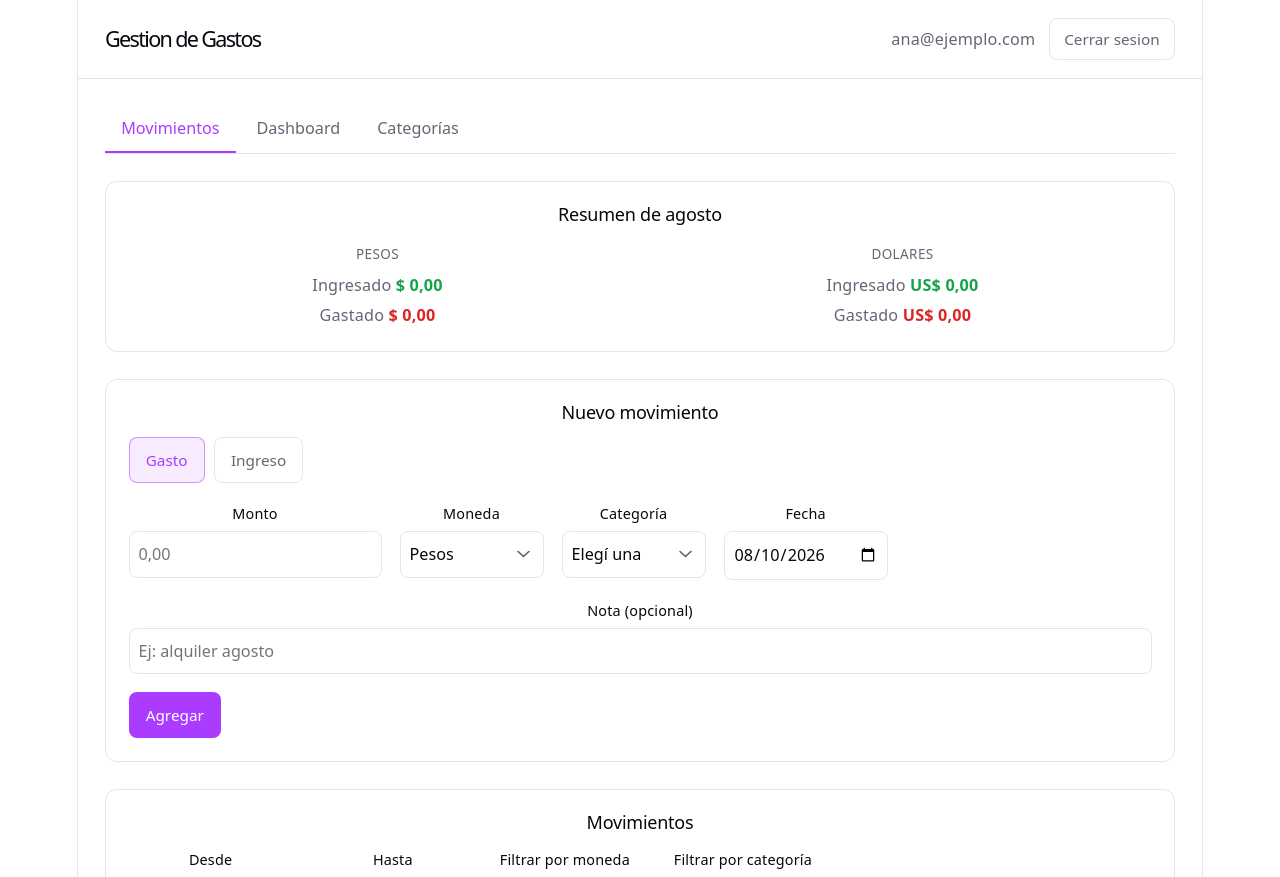
formulario de carga (RF-10 a RF-13) › si el alta falla el monto se conserva para poder corregirlo
Expected: the heading "Nuevo movimiento" is shown, [562,400,718,424]
Type "10999" into the field labelled "Monto" at (255,555), box [128,532,382,578]
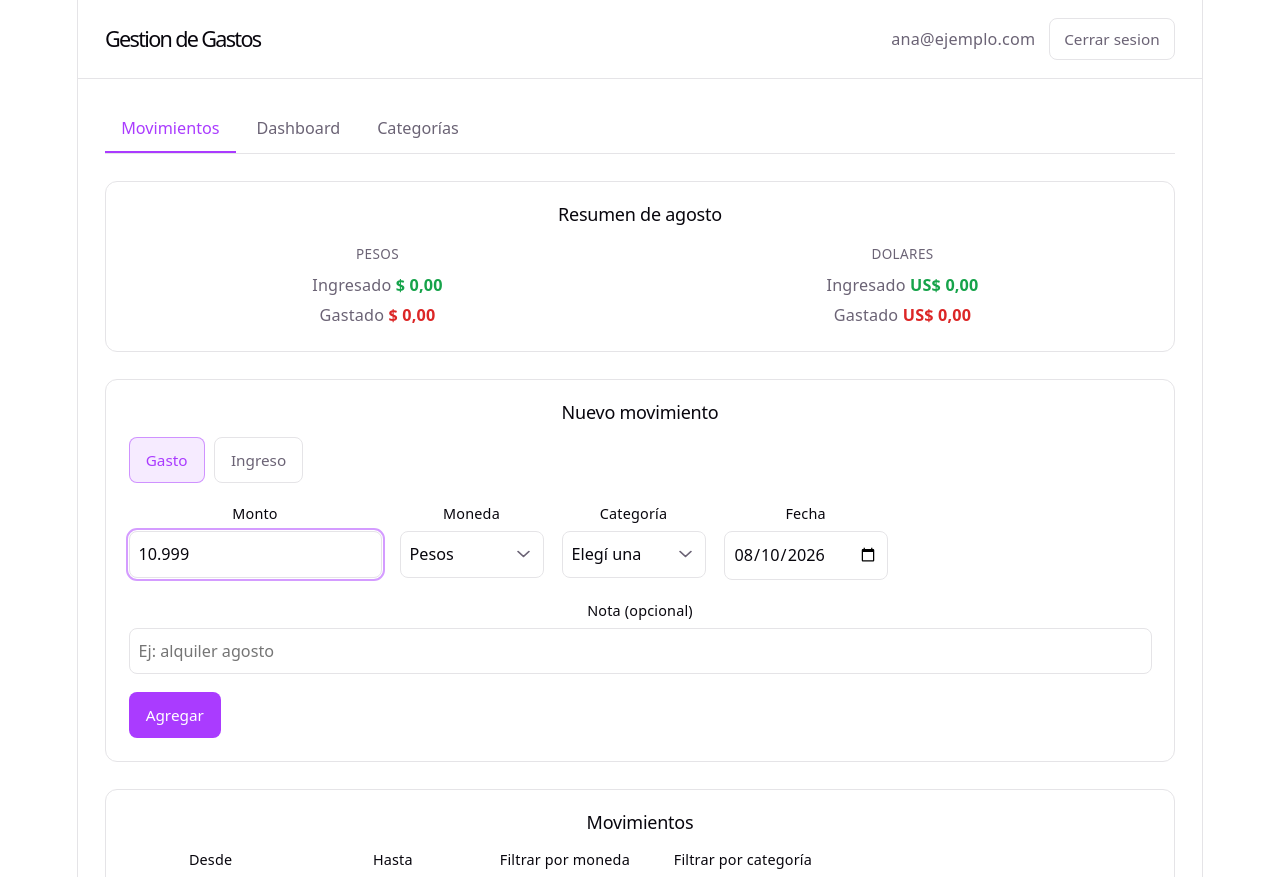
Select "Comida" in the dropdown labelled "Categoría" at (634,555), box [562,532,706,578]
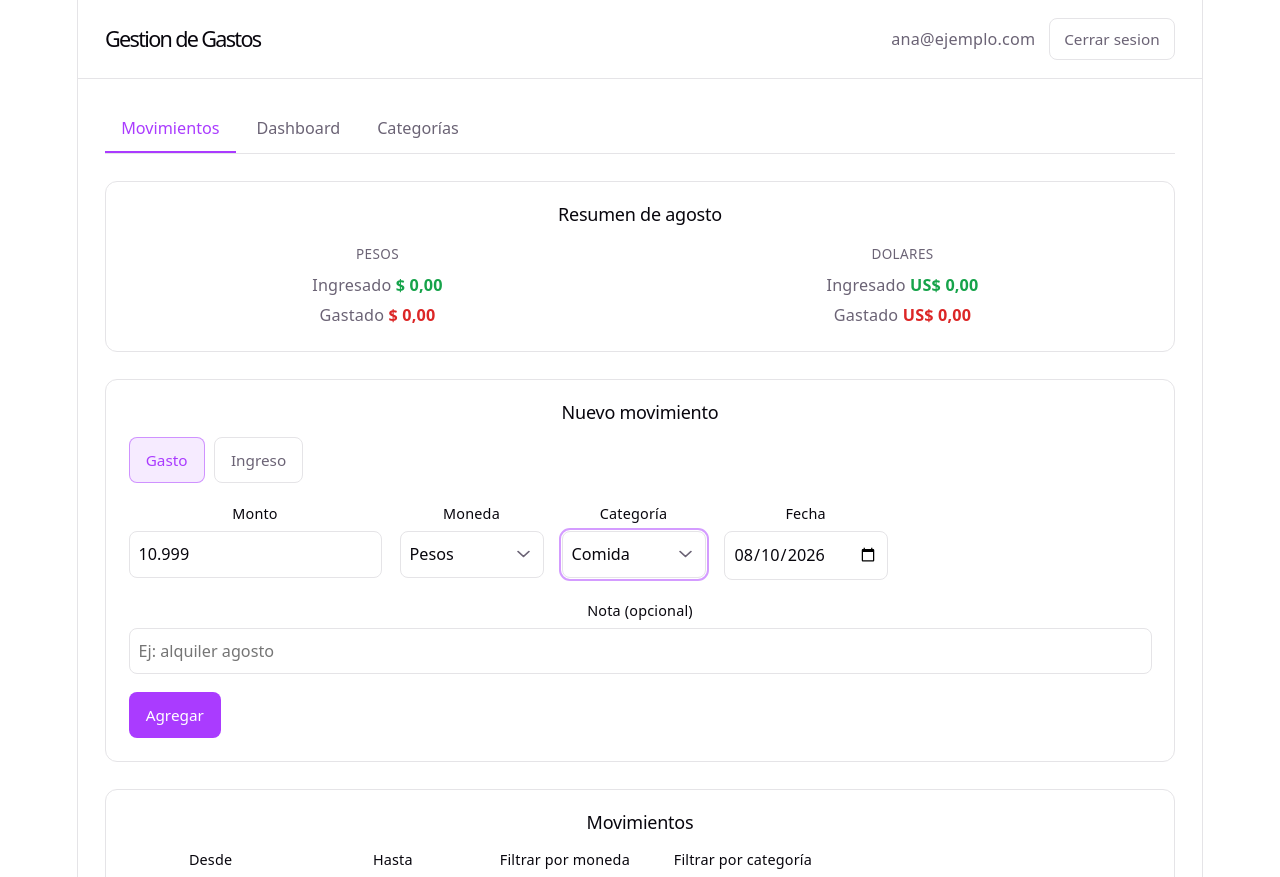
Click the button "Agregar" at (175,715), box [128,692,221,738]
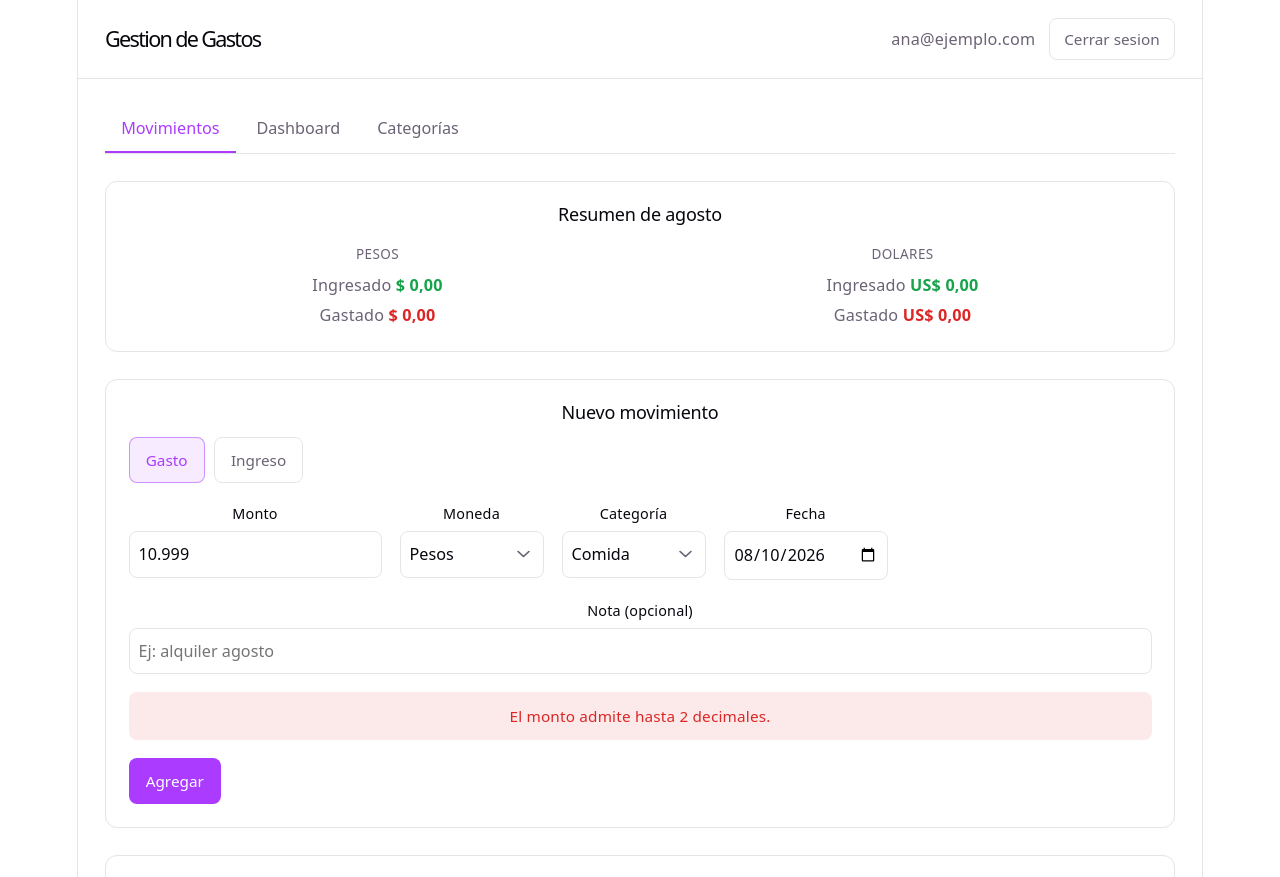
Now the field labelled "Monto" holds "10.999", box [128,532,382,578]
Now the message "El monto admite hasta 2 decimales." is shown, box [128,692,1152,740]
